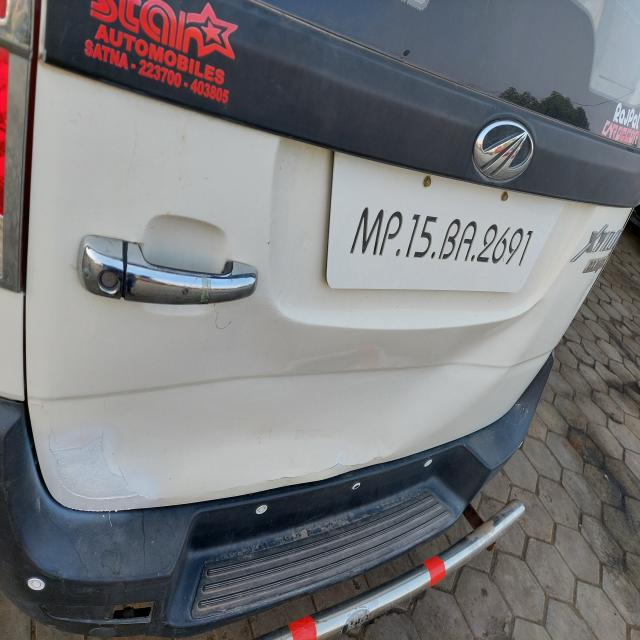damage: (177, 438, 436, 503), (36, 391, 163, 519), (409, 296, 537, 414)
